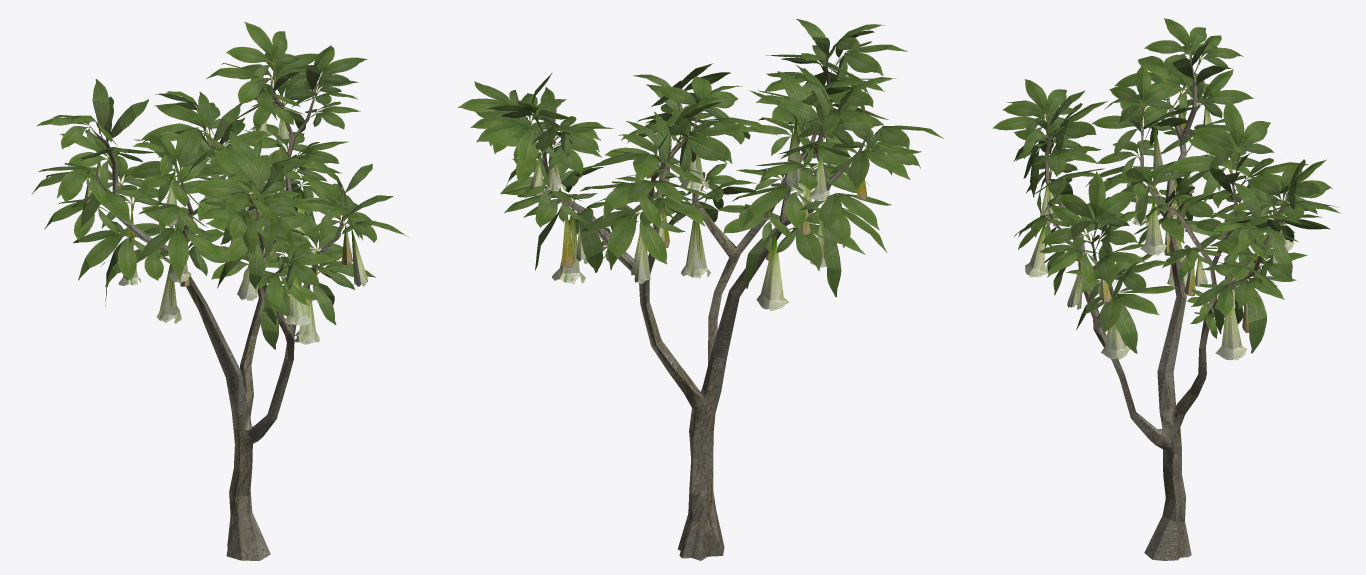
The model's file is bg_atm_tree_commonbush01_sm_artree.FBX.
The picture shows the model from 3 angles, left to right: view 1: azimuth 30°, elevation 25°; view 2: azimuth 150°, elevation 25°; view 3: azimuth 270°, elevation 25°; orthographic projection. The views are drawn at different scales.
Parts seen in each view (by area): view 1: bg_atm_tree_commonbush01_sm_artree; view 2: bg_atm_tree_commonbush01_sm_artree; view 3: bg_atm_tree_commonbush01_sm_artree.
Part boxes in pixels (x1,y1,x2,y2): bg_atm_tree_commonbush01_sm_artree: (31, 22, 407, 560); bg_atm_tree_commonbush01_sm_artree: (458, 19, 943, 560); bg_atm_tree_commonbush01_sm_artree: (992, 18, 1340, 560).
Bounding box in the file's own units: 331 × 376 × 272.
